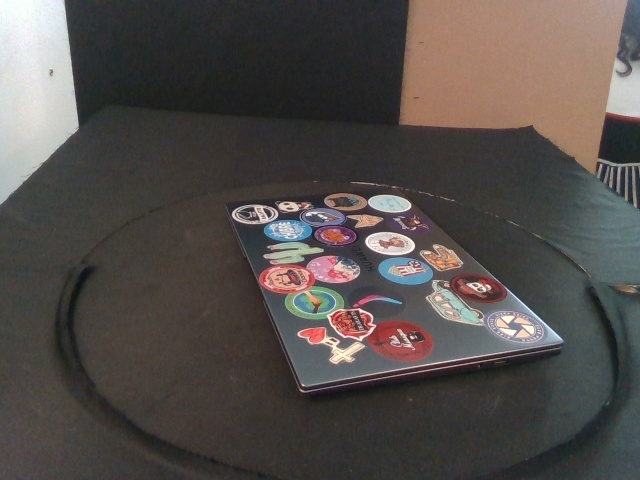laptop: (224, 187, 563, 396)
